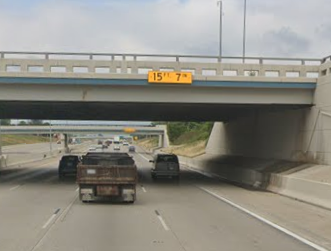1: (151, 71, 157, 82)
5: (155, 70, 163, 83)
7: (172, 71, 183, 83)
overheadsign: (146, 70, 193, 84)
